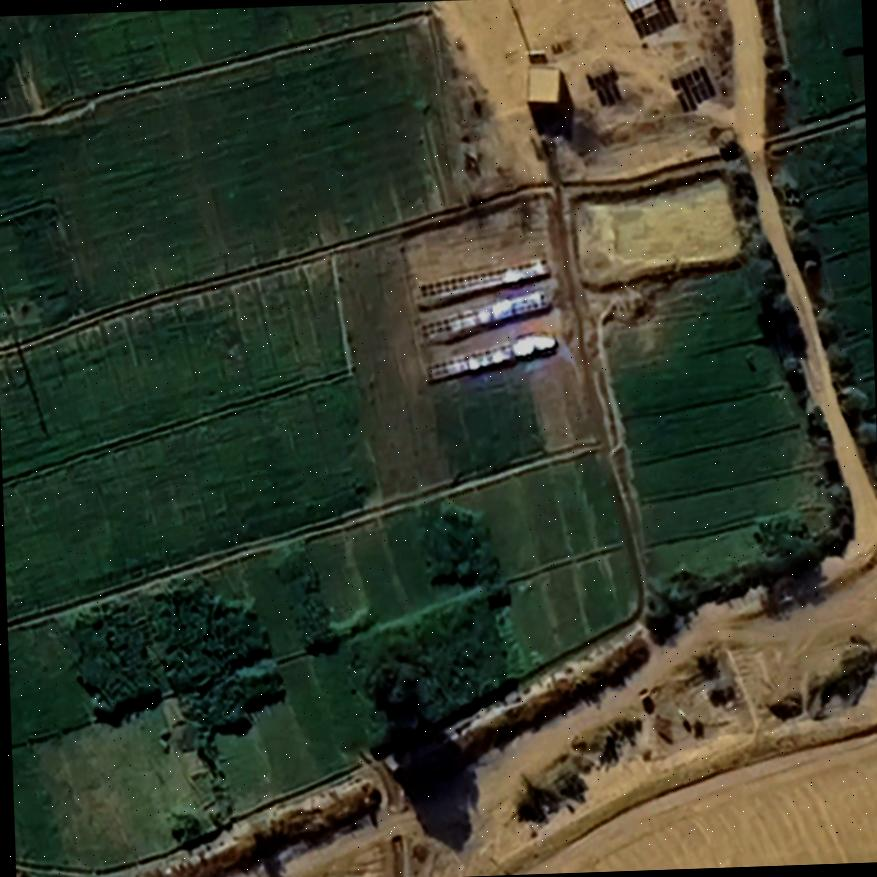Solarpanel: (414, 327, 568, 390), (410, 282, 550, 342), (413, 253, 555, 307), (663, 54, 721, 117), (617, 0, 680, 43), (581, 59, 624, 109)
